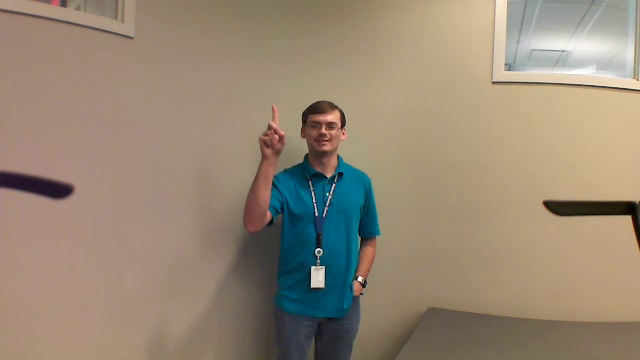up: (256, 97, 289, 161)
